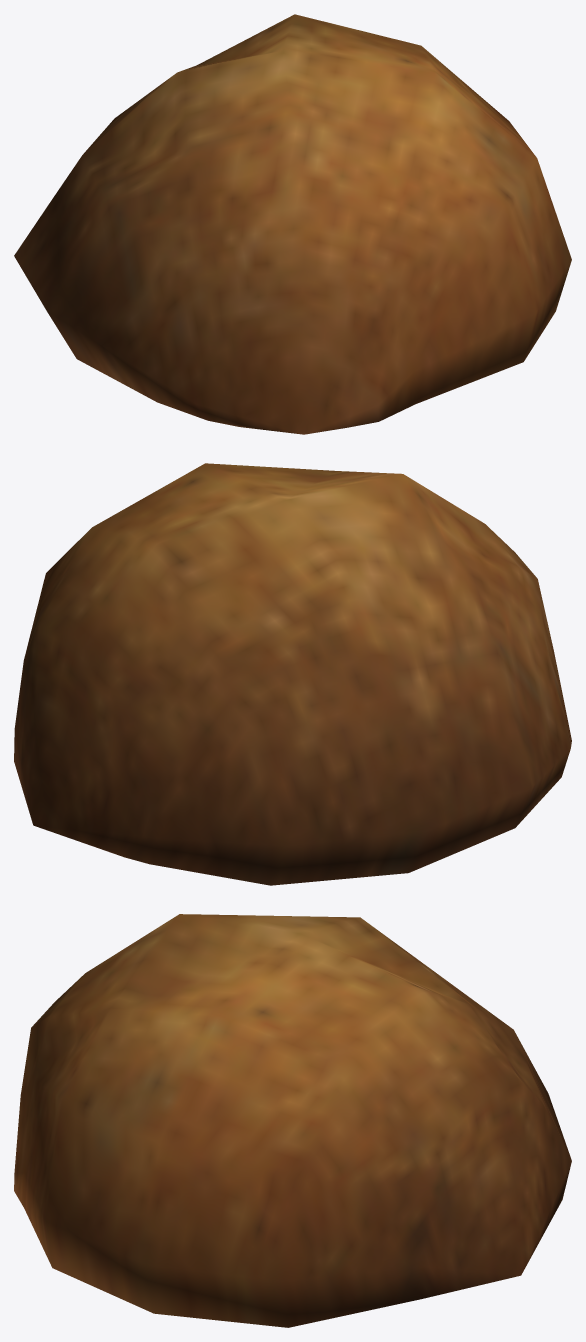
File: Cartoon Seaweed_13-2-23.fbx
The picture shows the model from 3 angles, top to bottom: view 1: azimuth 30°, elevation 25°; view 2: azimuth 150°, elevation 25°; view 3: azimuth 270°, elevation 25°; orthographic projection. The views are drawn at different scales.
Visible parts, largest first — view 1: Cartoon Seaweed_13.2.23; view 2: Cartoon Seaweed_13.2.23; view 3: Cartoon Seaweed_13.2.23.
Part boxes in pixels (x1,y1,x2,y2): Cartoon Seaweed_13.2.23: (14, 14, 571, 434); Cartoon Seaweed_13.2.23: (14, 463, 571, 885); Cartoon Seaweed_13.2.23: (14, 914, 571, 1327).
Size of the model in its own units: 8.97 by 4.83 by 8.54.
1 material, 1 textured.
